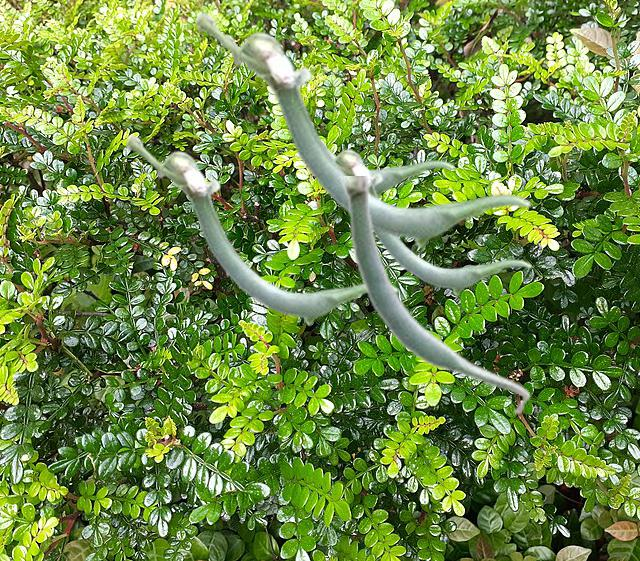french_bean: (194, 11, 531, 248), (125, 134, 398, 325), (341, 176, 530, 415), (220, 33, 454, 197), (334, 146, 531, 295)
